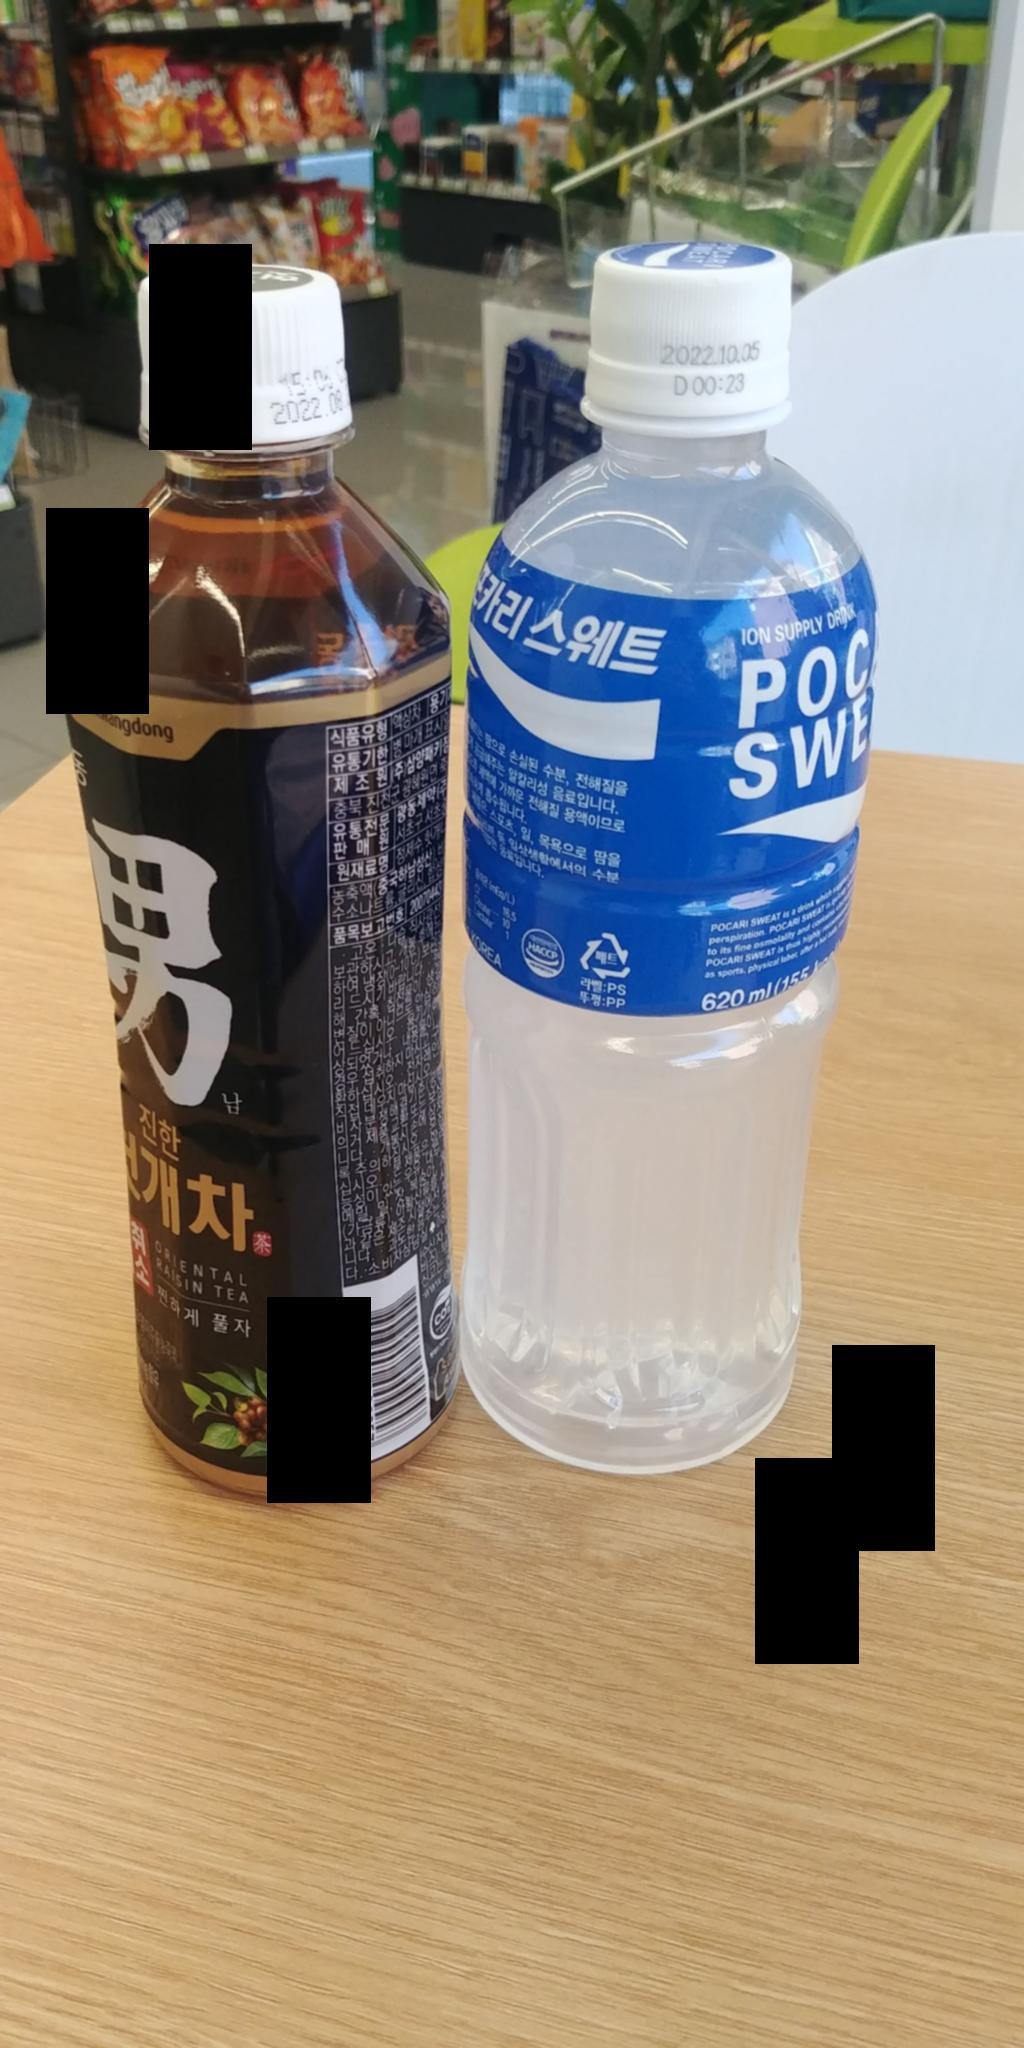heotgaecha: (35, 249, 495, 1533)
pocarisweat: (438, 221, 893, 1515)
